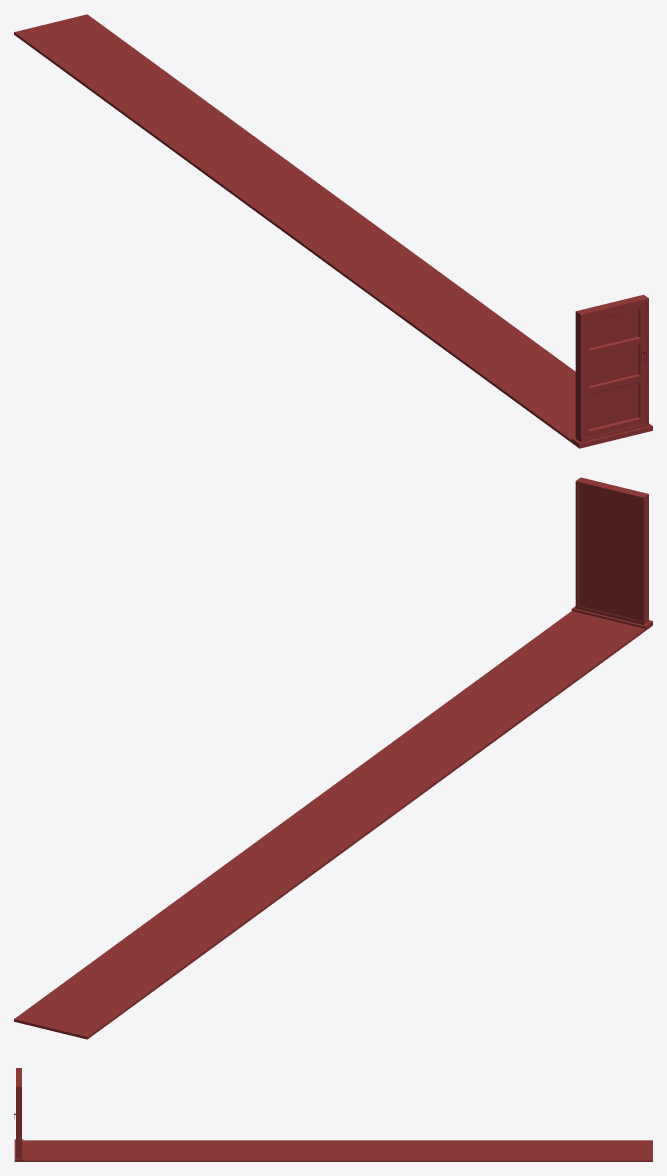
File: puerta.fbx
3 renders of one model, top to bottom at view 1: azimuth 30°, elevation 25°; view 2: azimuth 150°, elevation 25°; view 3: azimuth 270°, elevation 25°, orthographic. The views are drawn at different scales.
Visible parts, largest first — view 1: Object002, Box010; view 2: Object002, Box010; view 3: Object002.
Part boxes in pixels (box(x1,y1,x2,y2)): Object002: box(14, 14, 652, 448); Box010: box(583, 302, 645, 438); Object002: box(14, 477, 652, 1039); Box010: box(579, 485, 641, 620); Object002: box(14, 1068, 652, 1161).
Size of the model in its own units: 33.24 by 57.1 by 444.
